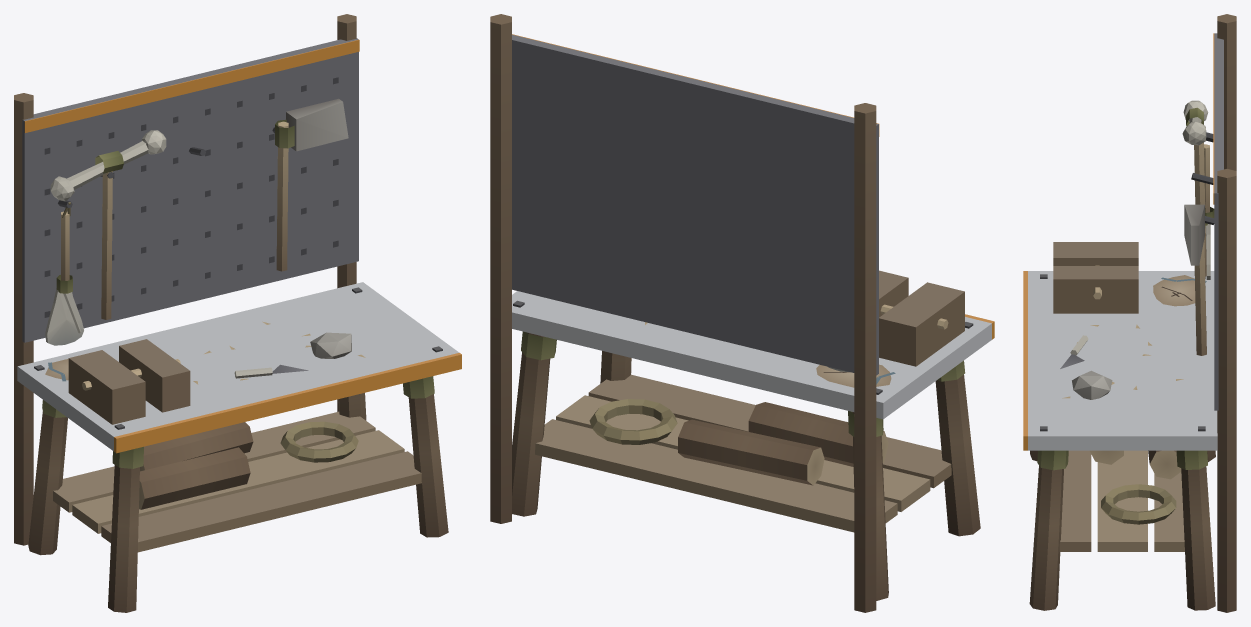
File: workbench_a.glb
The picture shows the model from 3 angles, left to right: view 1: azimuth 30°, elevation 25°; view 2: azimuth 150°, elevation 25°; view 3: azimuth 270°, elevation 25°; orthographic projection. The views are drawn at different scales.
Parts seen in each view (by area): view 1: base, stone_axe, stone_pick, bone_shovel; view 2: base, hide_map; view 3: base, stone_axe, stone_pick, hide_map, bone_shovel.
Part boxes in pixels (box(x1,y1,x2,y2)): base: box(14, 14, 461, 612); stone_axe: box(275, 98, 348, 271); stone_pick: box(50, 130, 166, 319); bone_shovel: box(45, 200, 83, 345); base: box(490, 14, 994, 612); hide_map: box(816, 364, 895, 387); base: box(1023, 14, 1236, 612); stone_axe: box(1184, 204, 1206, 355); stone_pick: box(1182, 100, 1208, 276); hide_map: box(1153, 275, 1206, 306); bone_shovel: box(1204, 139, 1214, 279).
Bounding box in the file's own units: 1.24 × 1.52 × 0.6753.
